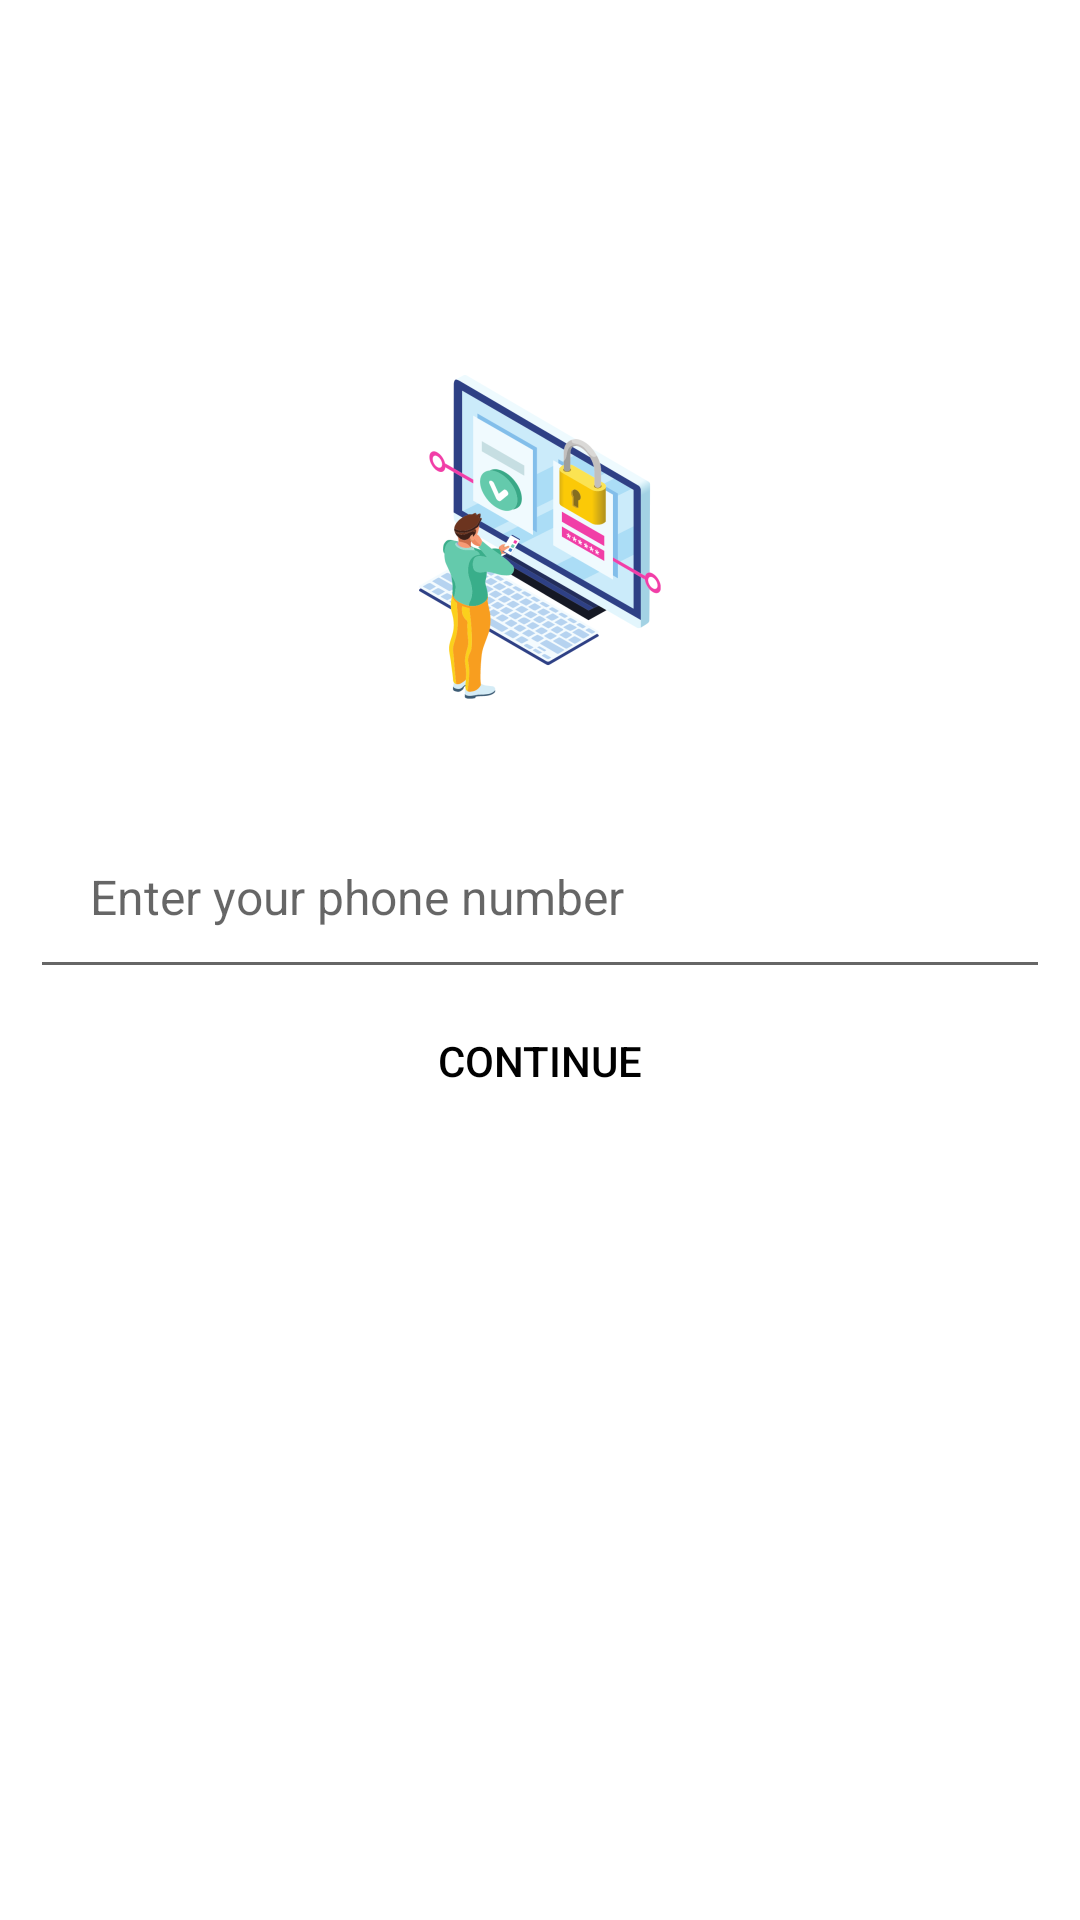

Icons on this 1080 × 1920 Android screen, each with the point to tap as point (x, y):
login: point (540, 539)
